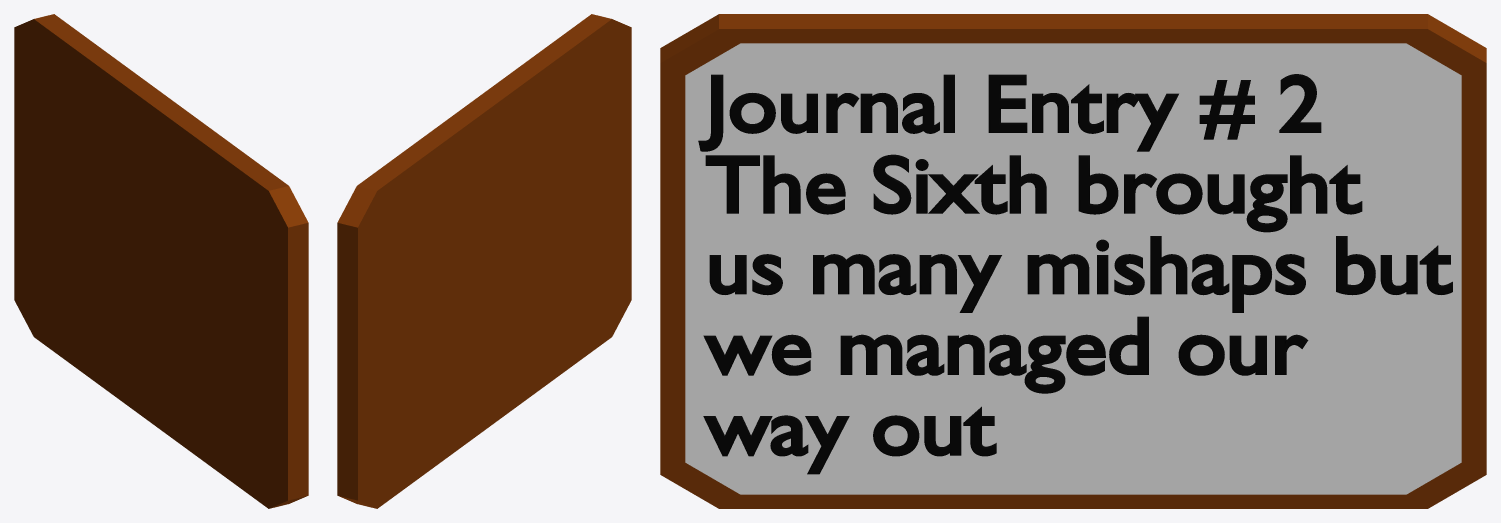
The model's file is CODE 2.fbx.
The picture shows the model from 3 angles, left to right: view 1: azimuth 30°, elevation 25°; view 2: azimuth 150°, elevation 25°; view 3: azimuth 270°, elevation 25°; orthographic projection. The views are drawn at different scales.
Parts seen in each view (by area): view 1: sign Text.001; view 2: sign Text.001; view 3: sign Text.001.
Boxes of the visible parts, x1,y1,x2,y2 form: sign Text.001: [14, 14, 308, 508]; sign Text.001: [337, 14, 631, 508]; sign Text.001: [660, 14, 1486, 508].
Bounding box in the file's own units: 3.89 × 53.4 × 83.29.
